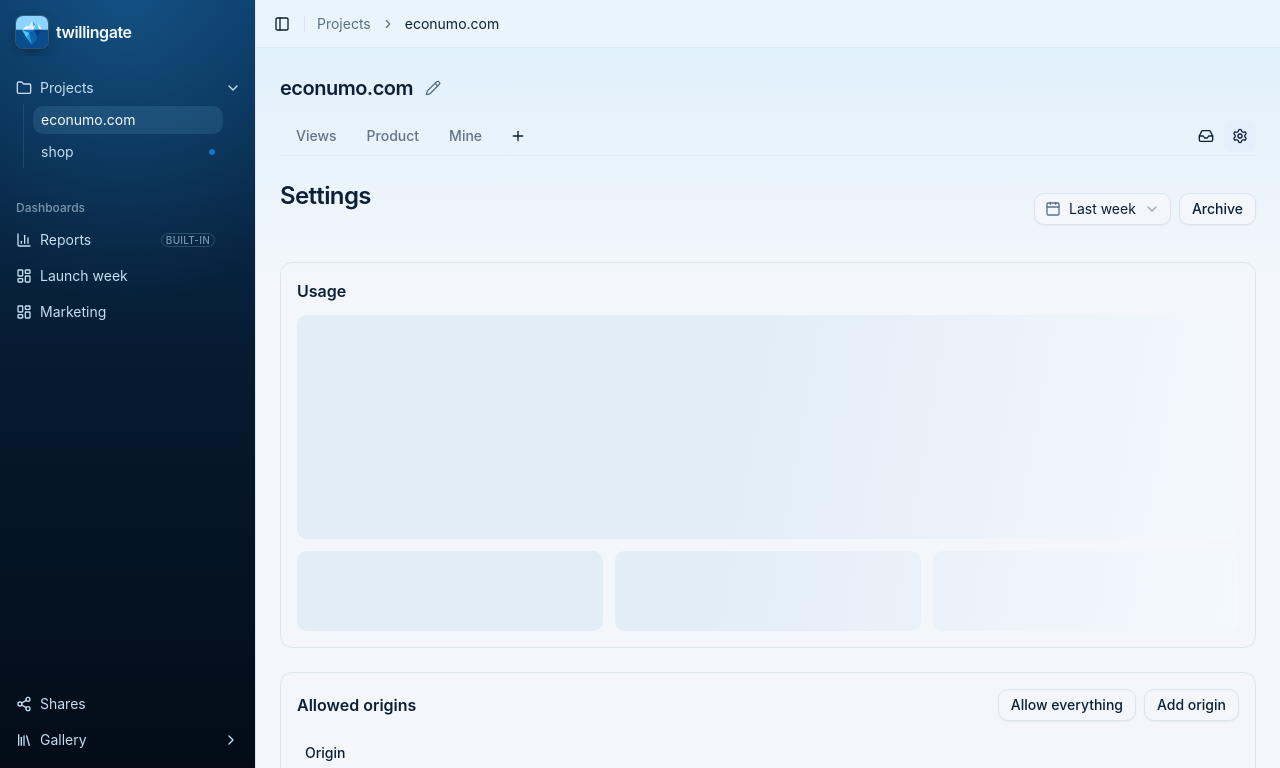
Project › keeps "kept until restored" when the server names no purge window
Click the button "Archive". click: x=1217, y=209
box: [1179,193,1256,225]
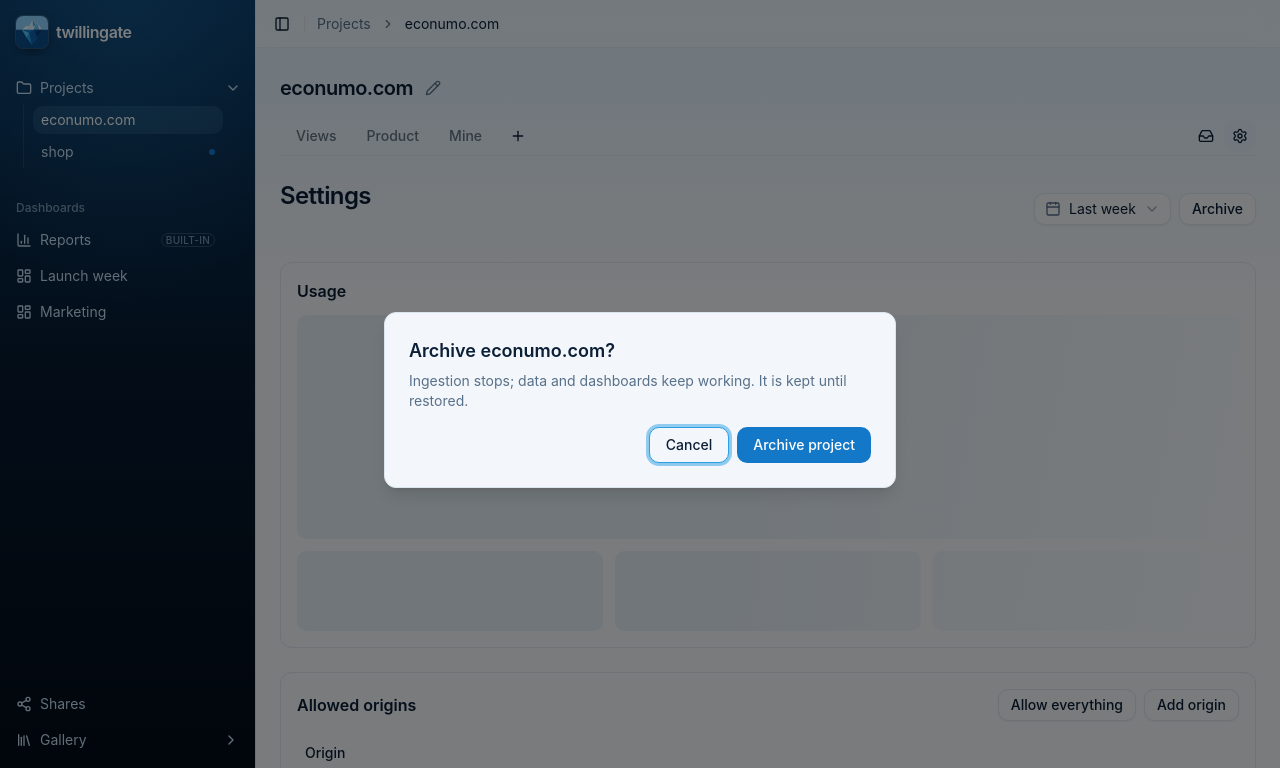
Expected: the text "It is kept until restored" is shown, [409,372,847,409]
